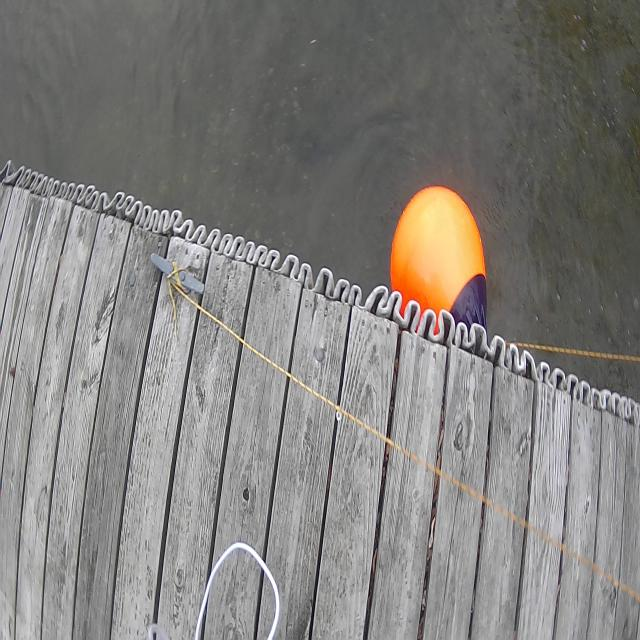Buoy: (383, 172, 495, 341)
